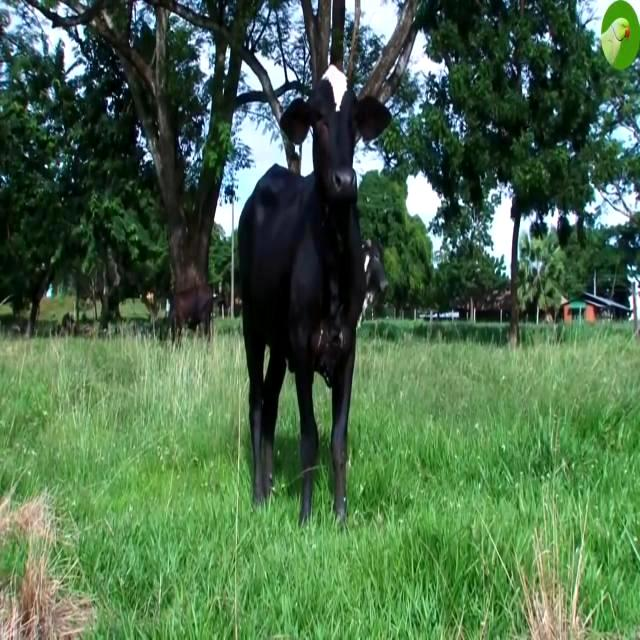COW: (239, 65, 390, 521)
